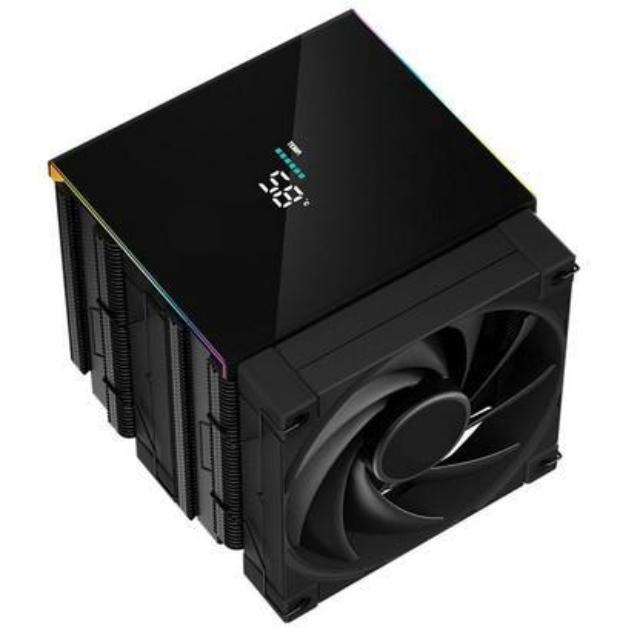CPU_Fan: (42, 6, 574, 631)
